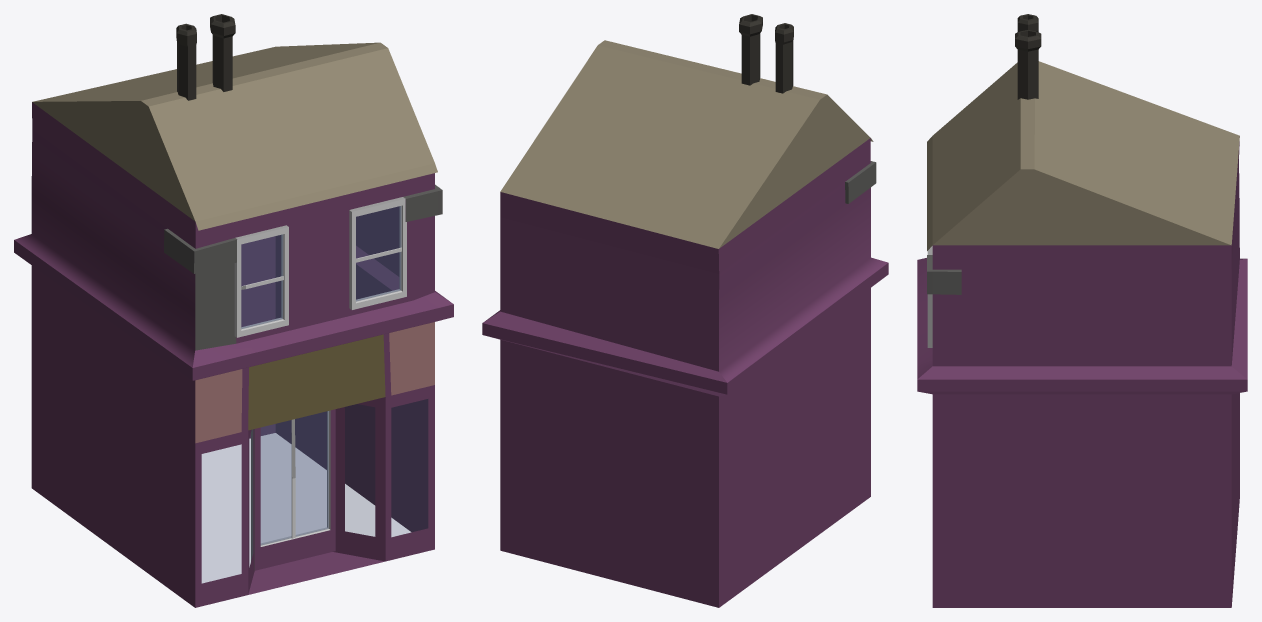
The model's file is fbx_building_test.fbx.
3 renders of one model, left to right at view 1: azimuth 30°, elevation 25°; view 2: azimuth 150°, elevation 25°; view 3: azimuth 270°, elevation 25°, orthographic. The views are drawn at different scales.
Visible parts, largest first — view 1: Balcony:test_deletW1:Window1:polySurface13; view 2: Balcony:test_deletW1:Window1:polySurface13; view 3: Balcony:test_deletW1:Window1:polySurface13.
Boxes of the visible parts, box(x1,y1,x2,y2) form: Balcony:test_deletW1:Window1:polySurface13: box(14, 14, 453, 607); Balcony:test_deletW1:Window1:polySurface13: box(482, 14, 888, 607); Balcony:test_deletW1:Window1:polySurface13: box(917, 14, 1247, 607).
Bounding box in the file's own units: 10.18 × 19.64 × 11.76.
